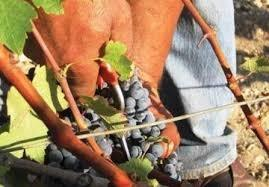Grape Rotten: (119, 72, 168, 164)
